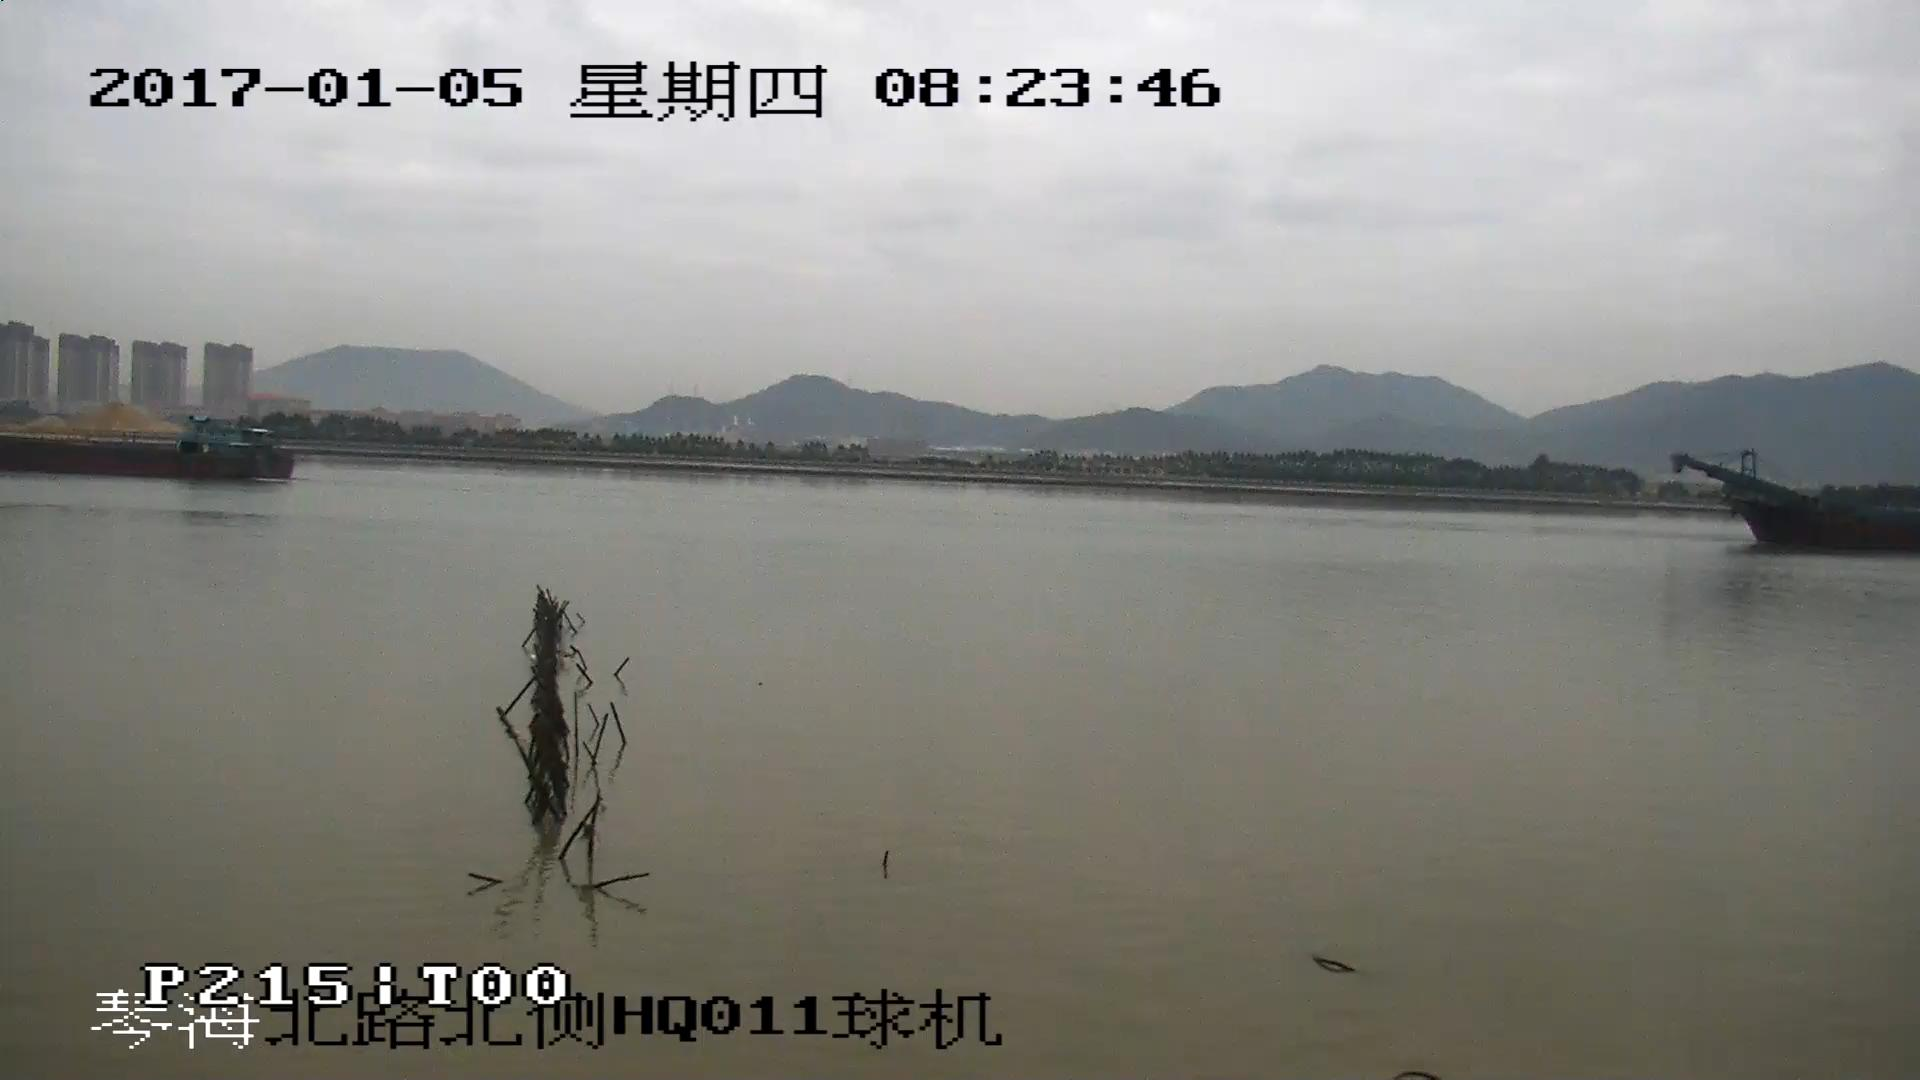bulk cargo carrier: (1675, 455, 1920, 556), (1, 417, 295, 480)
